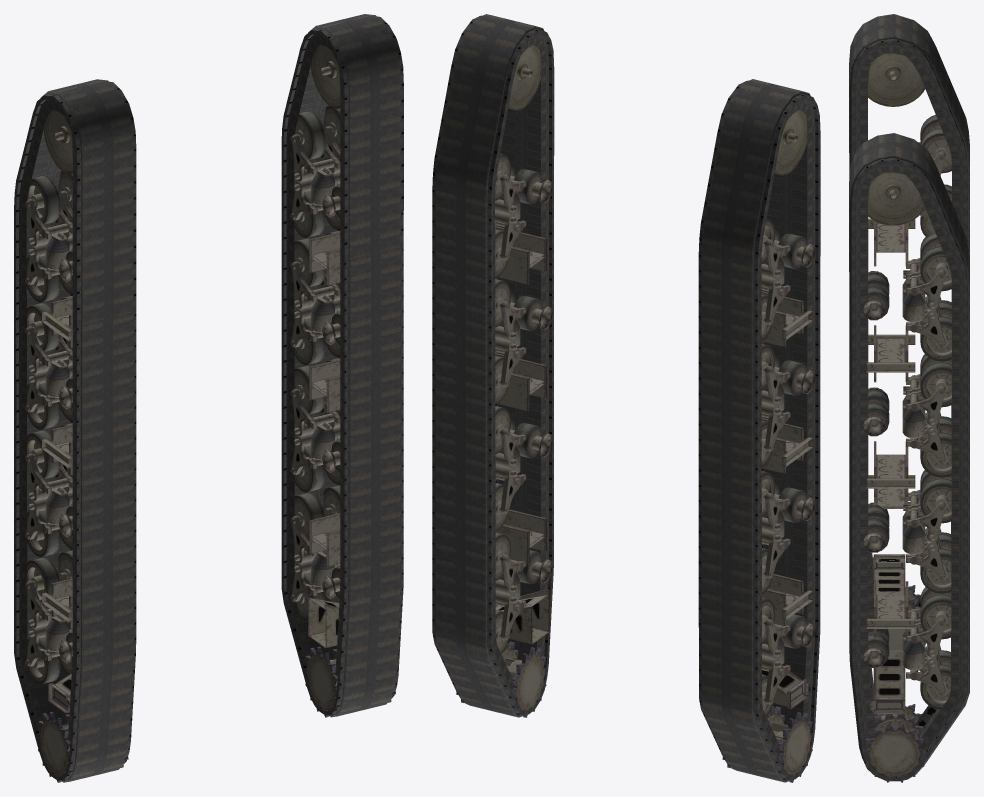
File: Chassis.glb
The picture shows the model from 3 angles, left to right: view 1: azimuth 30°, elevation 25°; view 2: azimuth 150°, elevation 25°; view 3: azimuth 270°, elevation 25°; orthographic projection. The views are drawn at different scales.
Parts seen in each view (by area): view 1: set_2_group_0, set_3_group_0, set_0_group_0, set_1_group_0; view 2: set_2_group_0, set_3_group_0, set_0_group_0, set_1_group_0; view 3: set_0_group_0, set_3_group_0, set_2_group_0, set_1_group_0.
Boxes of the visible parts, x1=… form: set_2_group_0: x1=14, y1=79, x2=136, y2=782; set_3_group_0: x1=281, y1=14, x2=403, y2=717; set_0_group_0: x1=290, y1=44, x2=397, y2=717; set_1_group_0: x1=25, y1=110, x2=130, y2=782; set_2_group_0: x1=698, y1=79, x2=820, y2=782; set_3_group_0: x1=432, y1=14, x2=554, y2=717; set_0_group_0: x1=456, y1=45, x2=552, y2=717; set_1_group_0: x1=722, y1=110, x2=814, y2=782; set_0_group_0: x1=862, y1=172, x2=952, y2=782; set_3_group_0: x1=849, y1=133, x2=969, y2=781; set_2_group_0: x1=849, y1=14, x2=969, y2=644; set_1_group_0: x1=868, y1=53, x2=952, y2=648.
Size of the model in its own units: 3.67 by 7.26 by 1.27.
4 materials, 4 textured.
